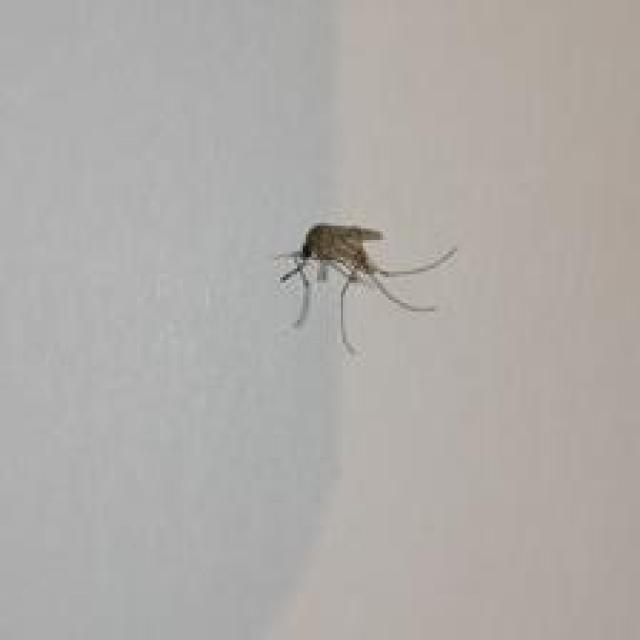Culex: (274, 220, 457, 354)
